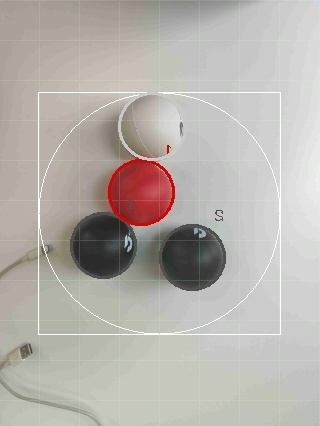Pelota blanca: (159, 222, 228, 291), (117, 92, 185, 160)
Pelota negra: (69, 212, 140, 280), (159, 222, 228, 291)
Pelota roja: (106, 158, 177, 227)
